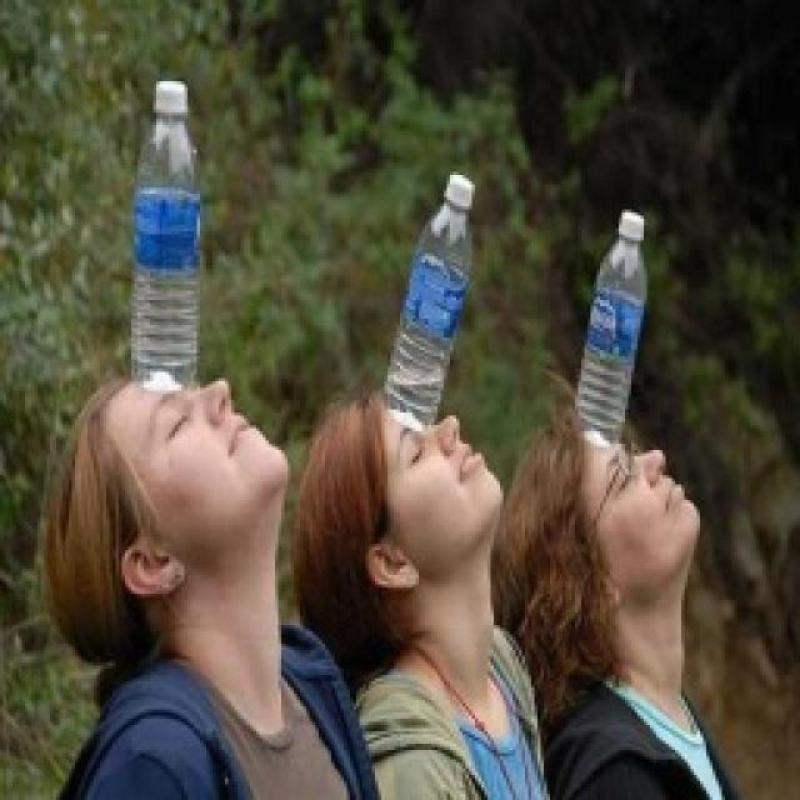botella: (383, 170, 477, 432), (129, 80, 202, 392), (573, 209, 652, 447)
